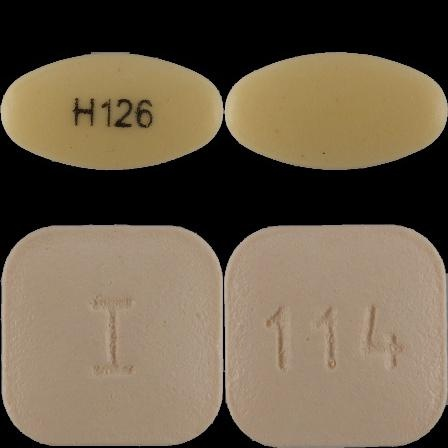31722-713: (0, 0, 224, 224)
